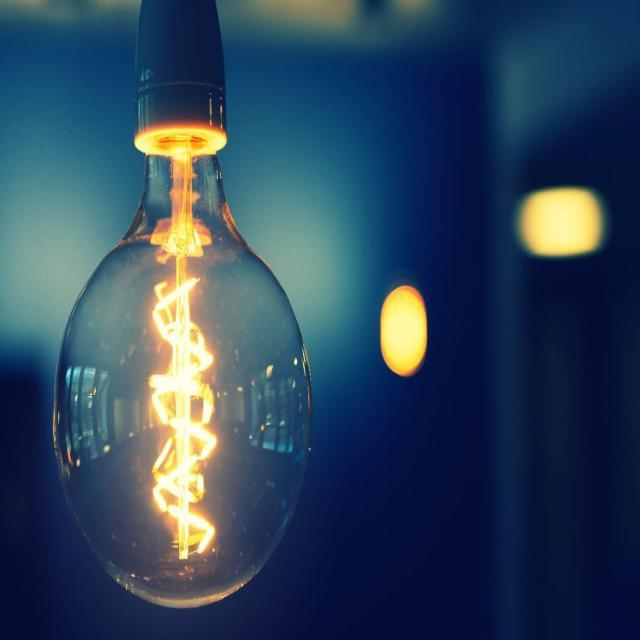light_bulb: (42, 3, 320, 620)
